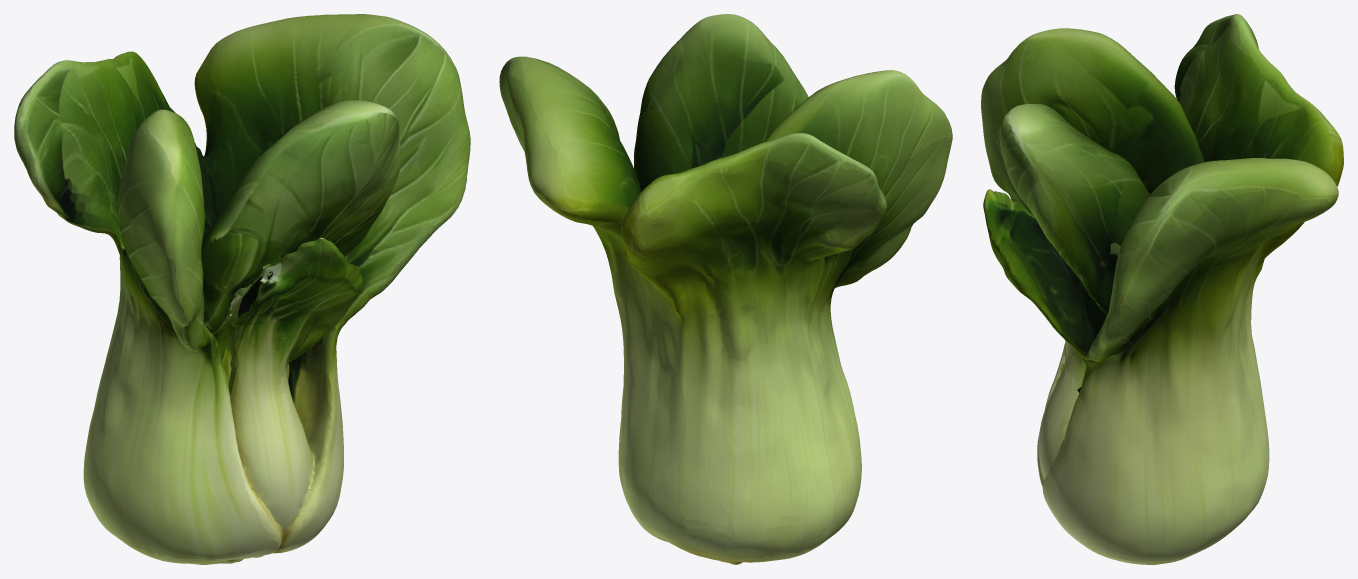
3 renders of one model, left to right at view 1: azimuth 30°, elevation 25°; view 2: azimuth 150°, elevation 25°; view 3: azimuth 270°, elevation 25°, orthographic. The views are drawn at different scales.
Visible parts, largest first — view 1: tmpmwk0skb2.ply; view 2: tmpmwk0skb2.ply; view 3: tmpmwk0skb2.ply.
Part boxes in pixels (left/top/right/bottom): tmpmwk0skb2.ply: left=14, top=14, right=470, bottom=564; tmpmwk0skb2.ply: left=499, top=14, right=952, bottom=564; tmpmwk0skb2.ply: left=981, top=14, right=1343, bottom=564.
Size of the model in its own units: 174 by 196 by 137.
Materials: 1 (1 with a texture image).
